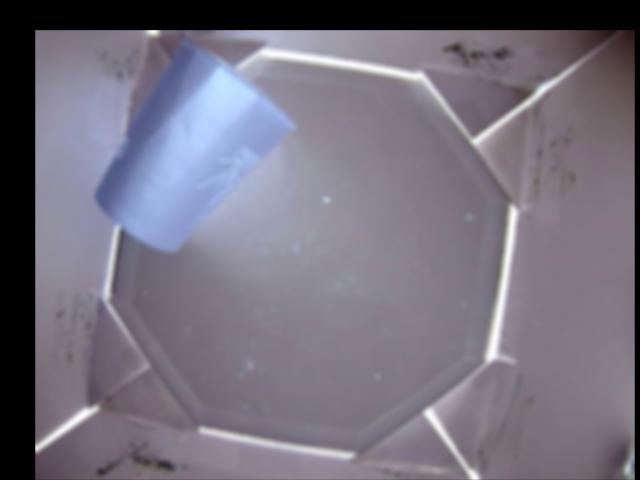Cup: (93, 41, 297, 251)
